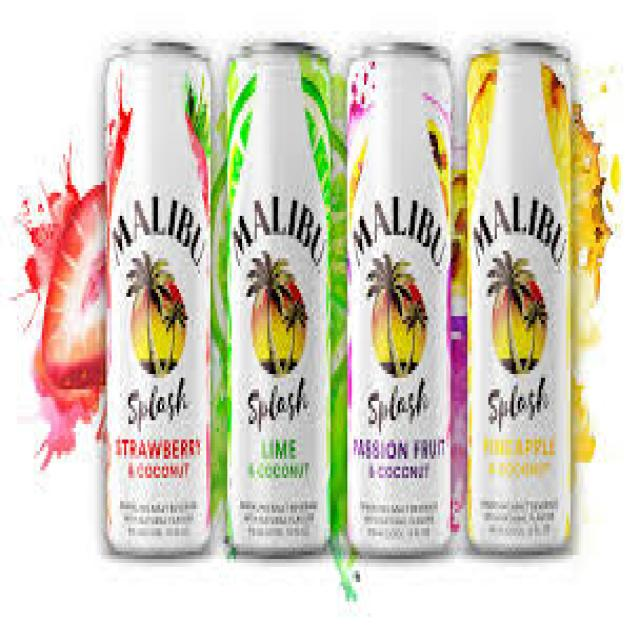Cans: (337, 34, 455, 566), (99, 38, 217, 563), (219, 34, 335, 566), (461, 31, 577, 563)
